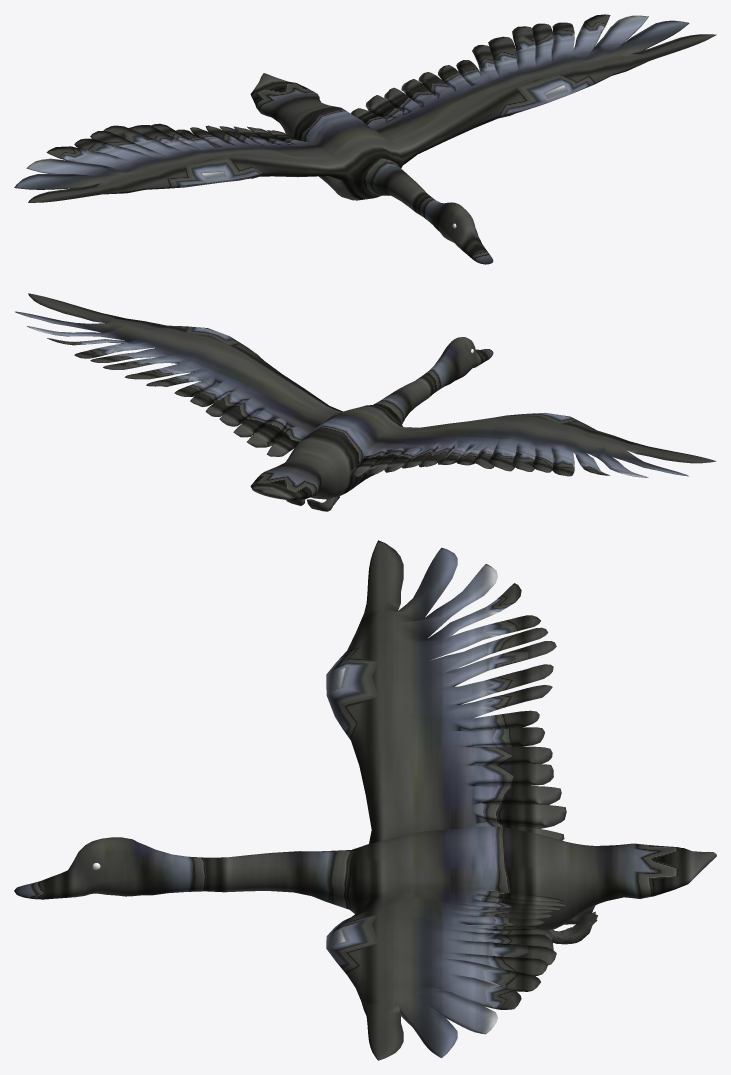
Rendered from goose.obj.
The picture shows the model from 3 angles, top to bottom: view 1: azimuth 30°, elevation 25°; view 2: azimuth 150°, elevation 25°; view 3: azimuth 270°, elevation 25°; orthographic projection. The views are drawn at different scales.
Parts seen in each view (by area): view 1: GOOSE; view 2: GOOSE; view 3: GOOSE.
Boxes of the visible parts, <box> form: GOOSE: <box>14,14,716,264</box>; GOOSE: <box>15,293,716,511</box>; GOOSE: <box>14,540,716,1060</box>.
Bounding box in the file's own units: 1.19 × 0.149 × 0.6781.
Materials: 1 (1 with a texture image).
